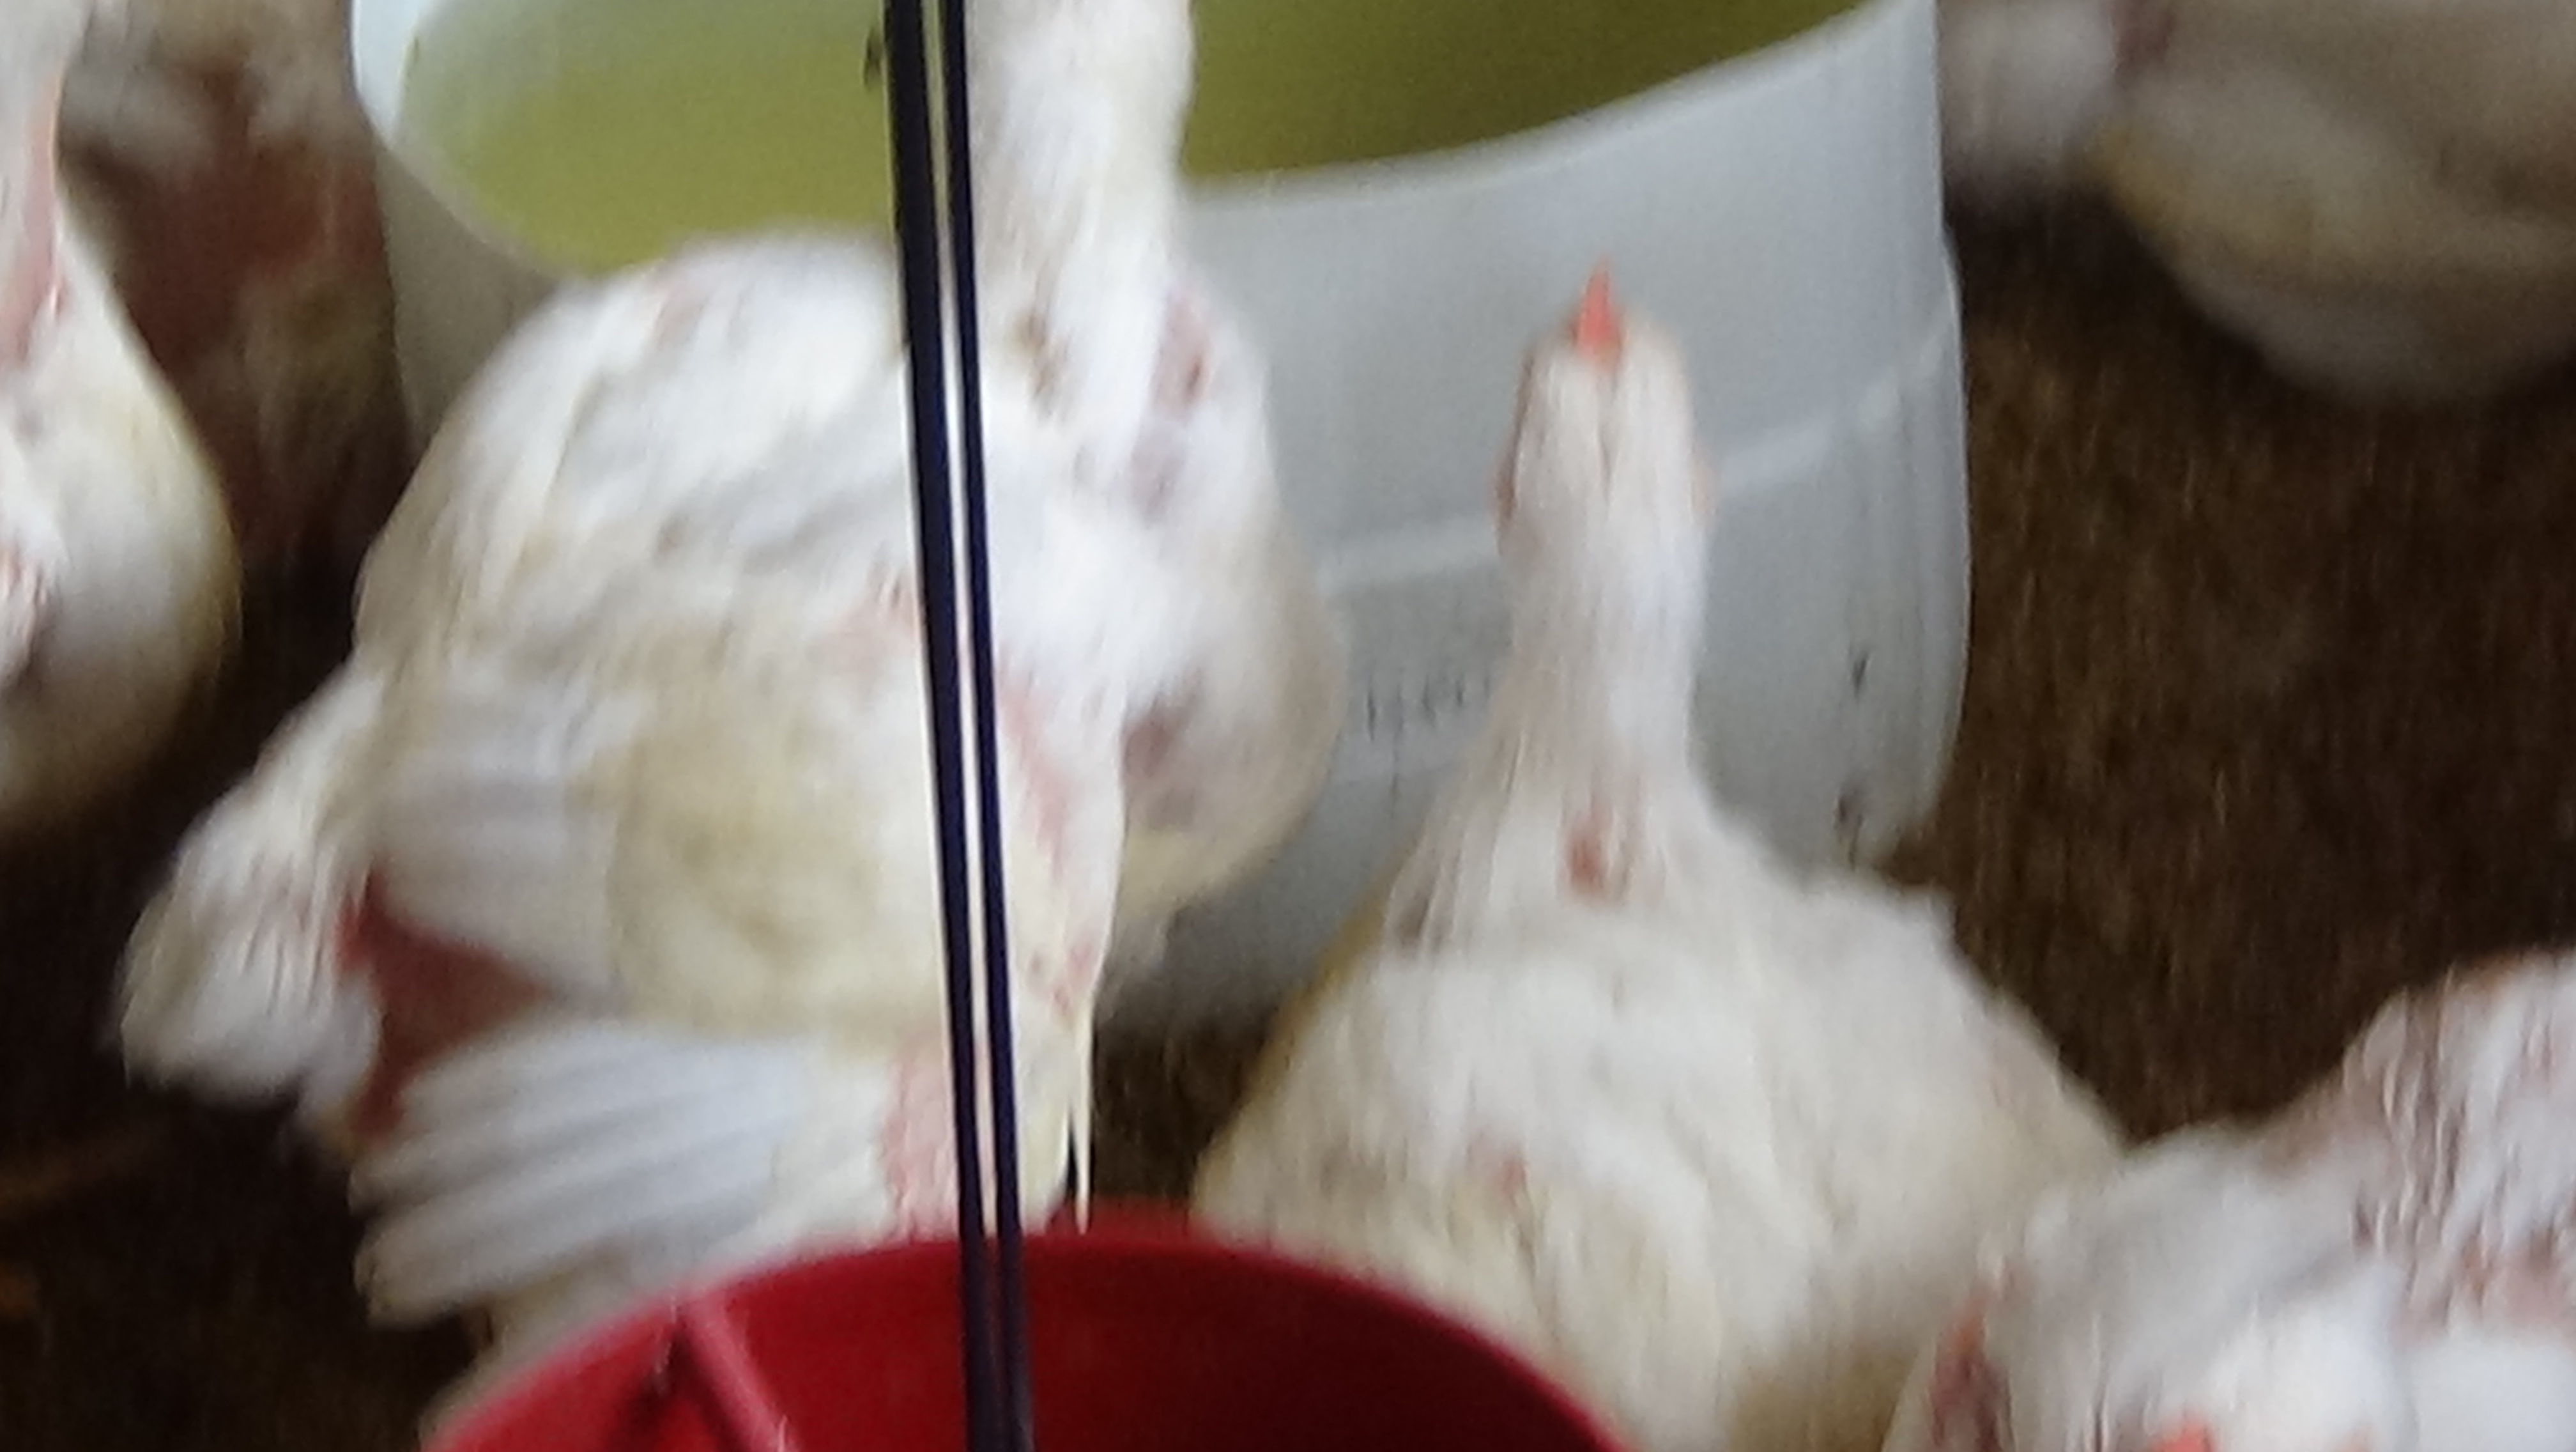Pollos: (143, 0, 1405, 1406), (1139, 221, 2139, 1452)
